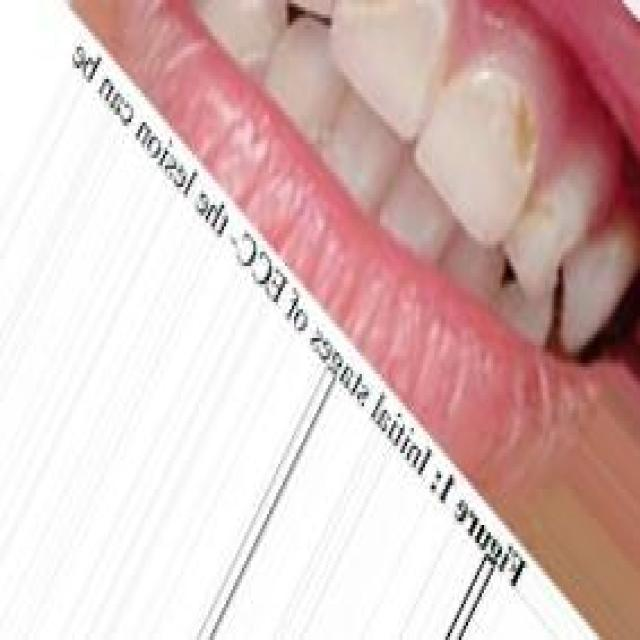caries: (494, 71, 556, 209)
